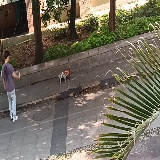fire: (65, 69, 69, 75)
